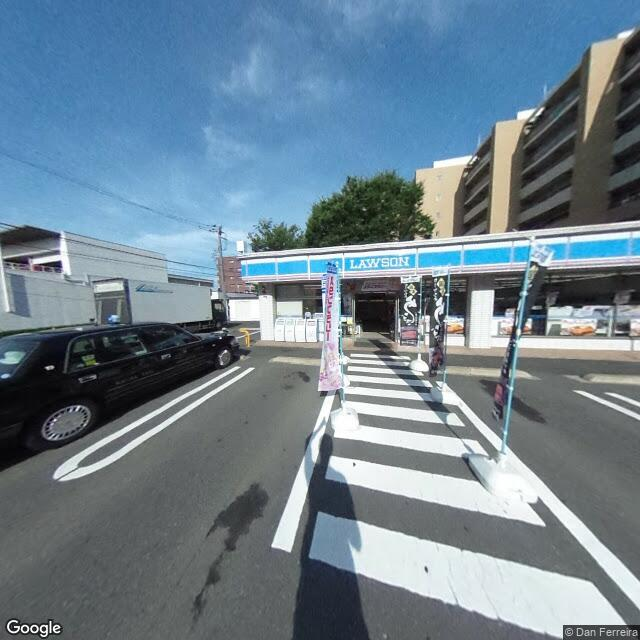lawson: (241, 222, 638, 287)
